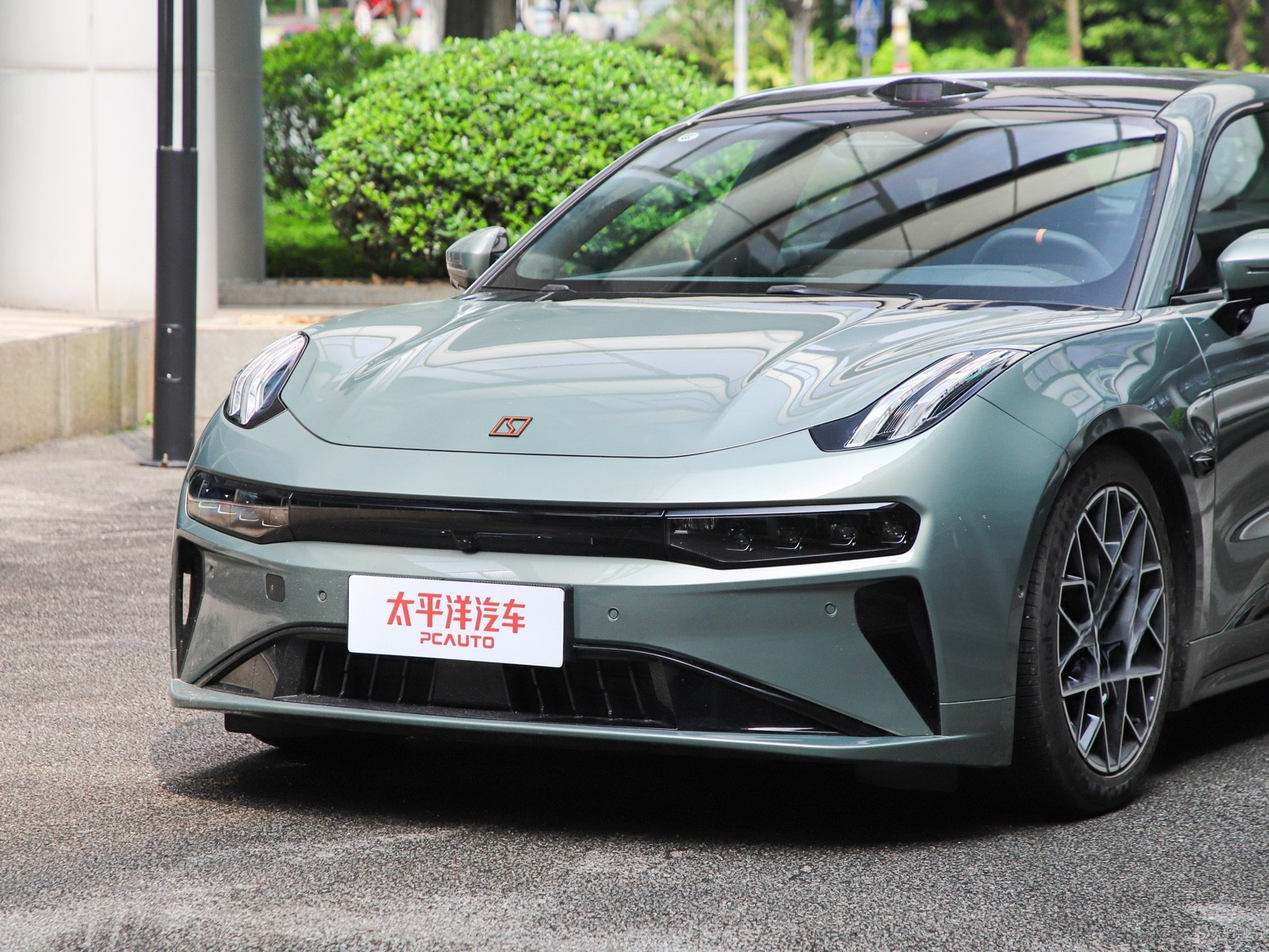ZEEKR: (489, 416, 533, 437)
